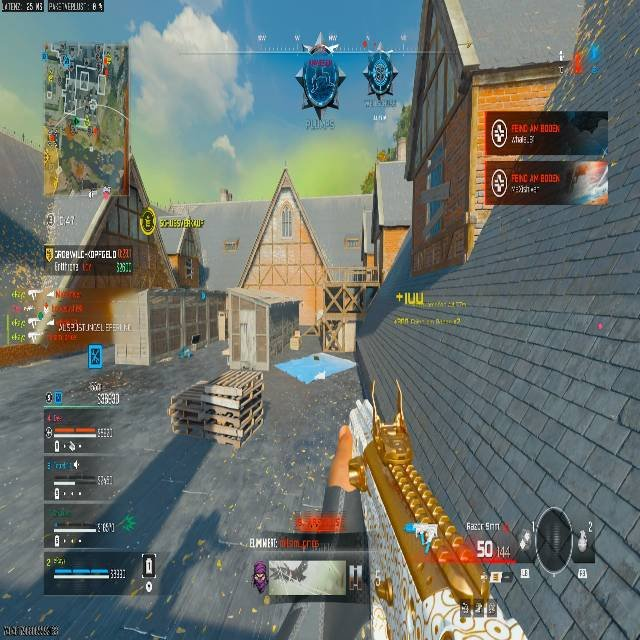player: (295, 44, 345, 119), (320, 285, 354, 352), (363, 51, 397, 104)
